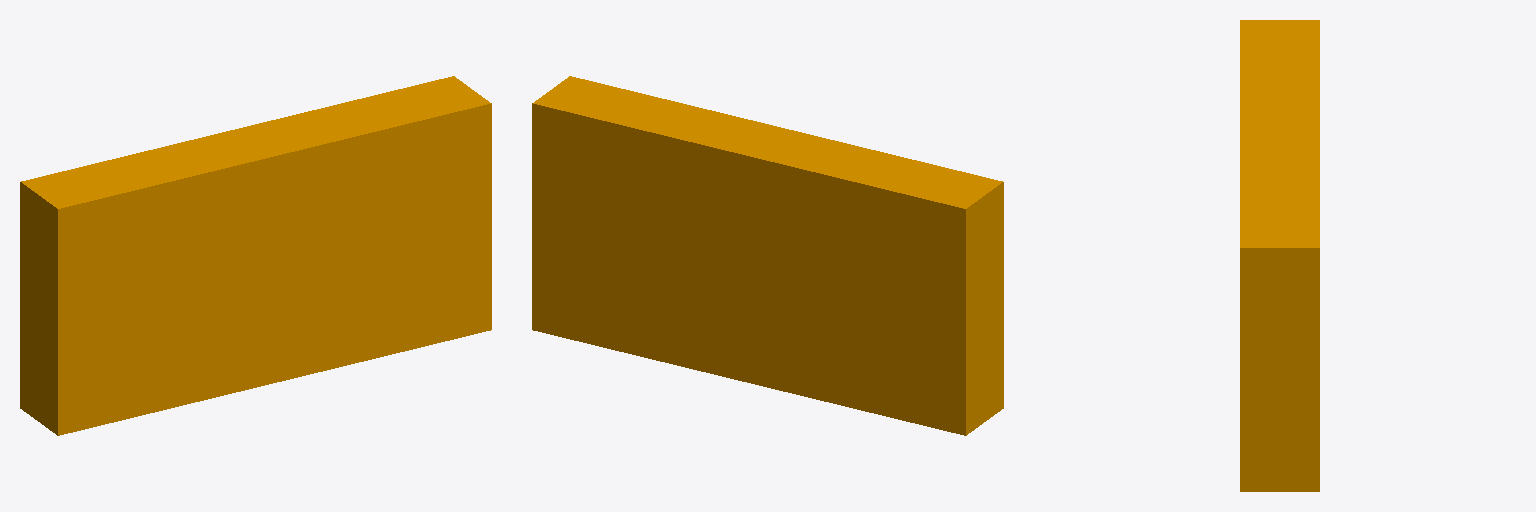
robot.urdf — lowWall:
<?xml version="1.0"?>
<robot name="lowWall">
  <link name="base_link">
    <visual>
      <geometry>
        <box size="2 0.3 1"/>
      </geometry>
  	<origin rpy="0 0 0" xyz="0 0 0.3"/>
    </visual>
    <collision>
      <geometry>
        <box size="2.2 0.5 1.1"/>
      </geometry>
    <origin rpy="0 0 0" xyz="0 0 0.3"/>
    </collision>
  </link>
</robot>

--- What the picture shows (computed from the rendered views, not written in the file) ---
3 views of the same robot in one strip: view 1: azimuth 30°, elevation 25°; view 2: azimuth 150°, elevation 25°; view 3: azimuth 270°, elevation 25° (orthographic).
Model lowWall with 1 links and 0 joints (none), rooted at base_link, posed every joint at zero.
Visible links, largest first — view 1: base_link; view 2: base_link; view 3: base_link.
Link boxes in pixels (<box>): base_link: <box>20,76,491,435</box>; base_link: <box>532,76,1003,435</box>; base_link: <box>1240,20,1319,491</box>.
Size in the robot's own frame: 2 by 0.3 by 1 metres.
Geometry: primitives only (box / cylinder / sphere), no mesh files.